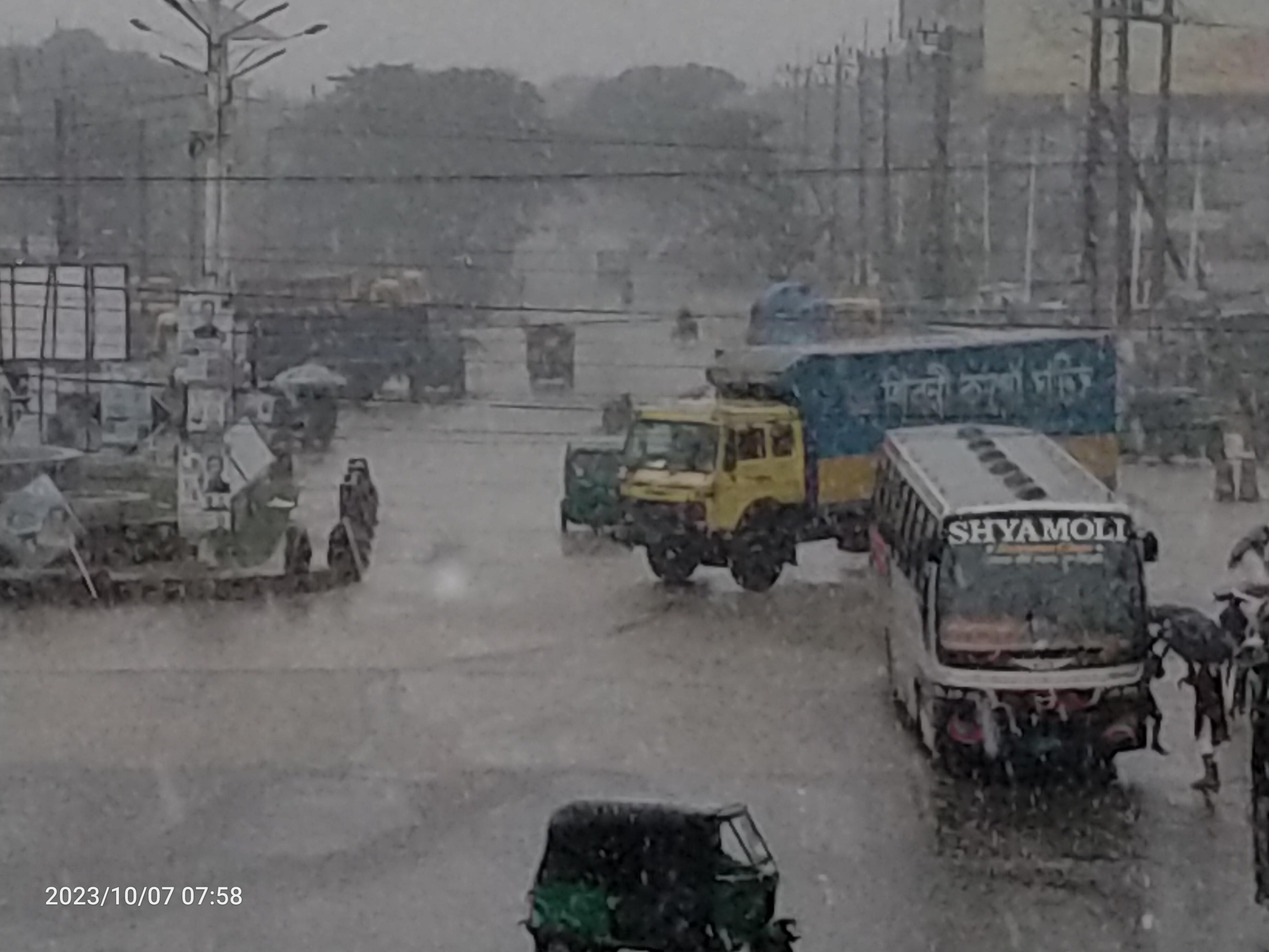Bus: (855, 414, 1174, 799)
Truck: (606, 305, 1150, 597), (509, 291, 603, 396)
